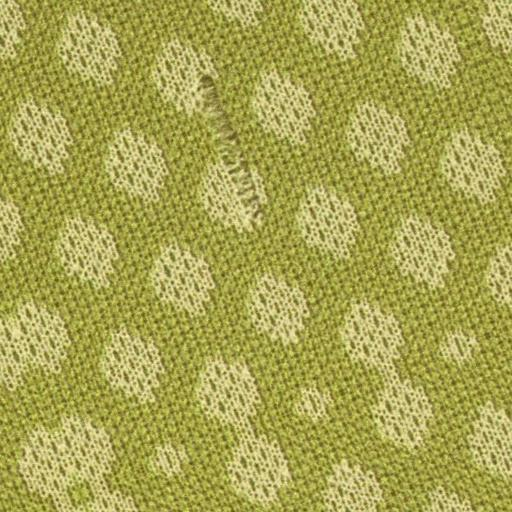slub: (192, 73, 287, 246)
